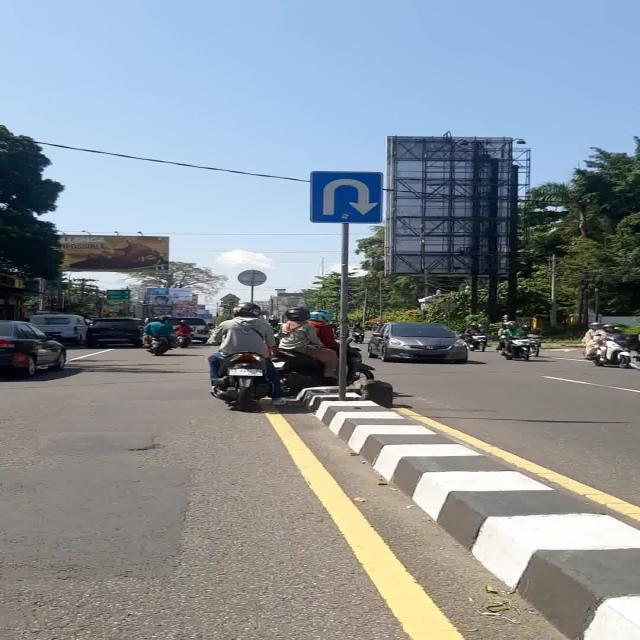Putar Balik: (309, 172, 383, 224)
